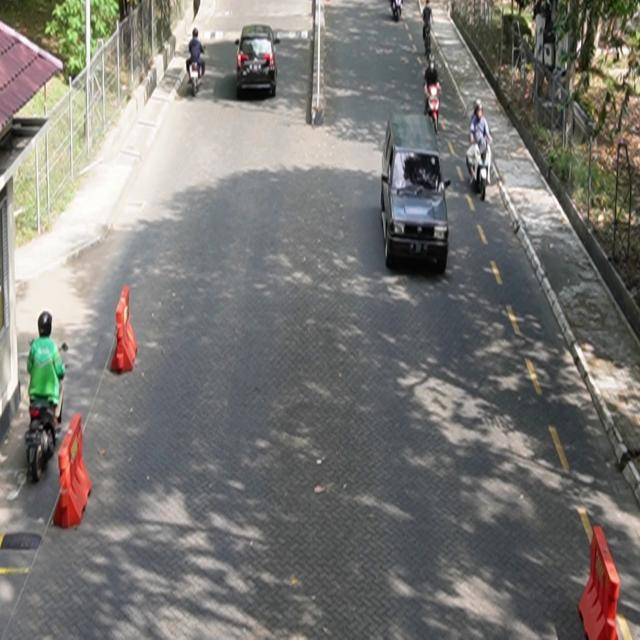car: (381, 112, 452, 274), (236, 24, 281, 99)
